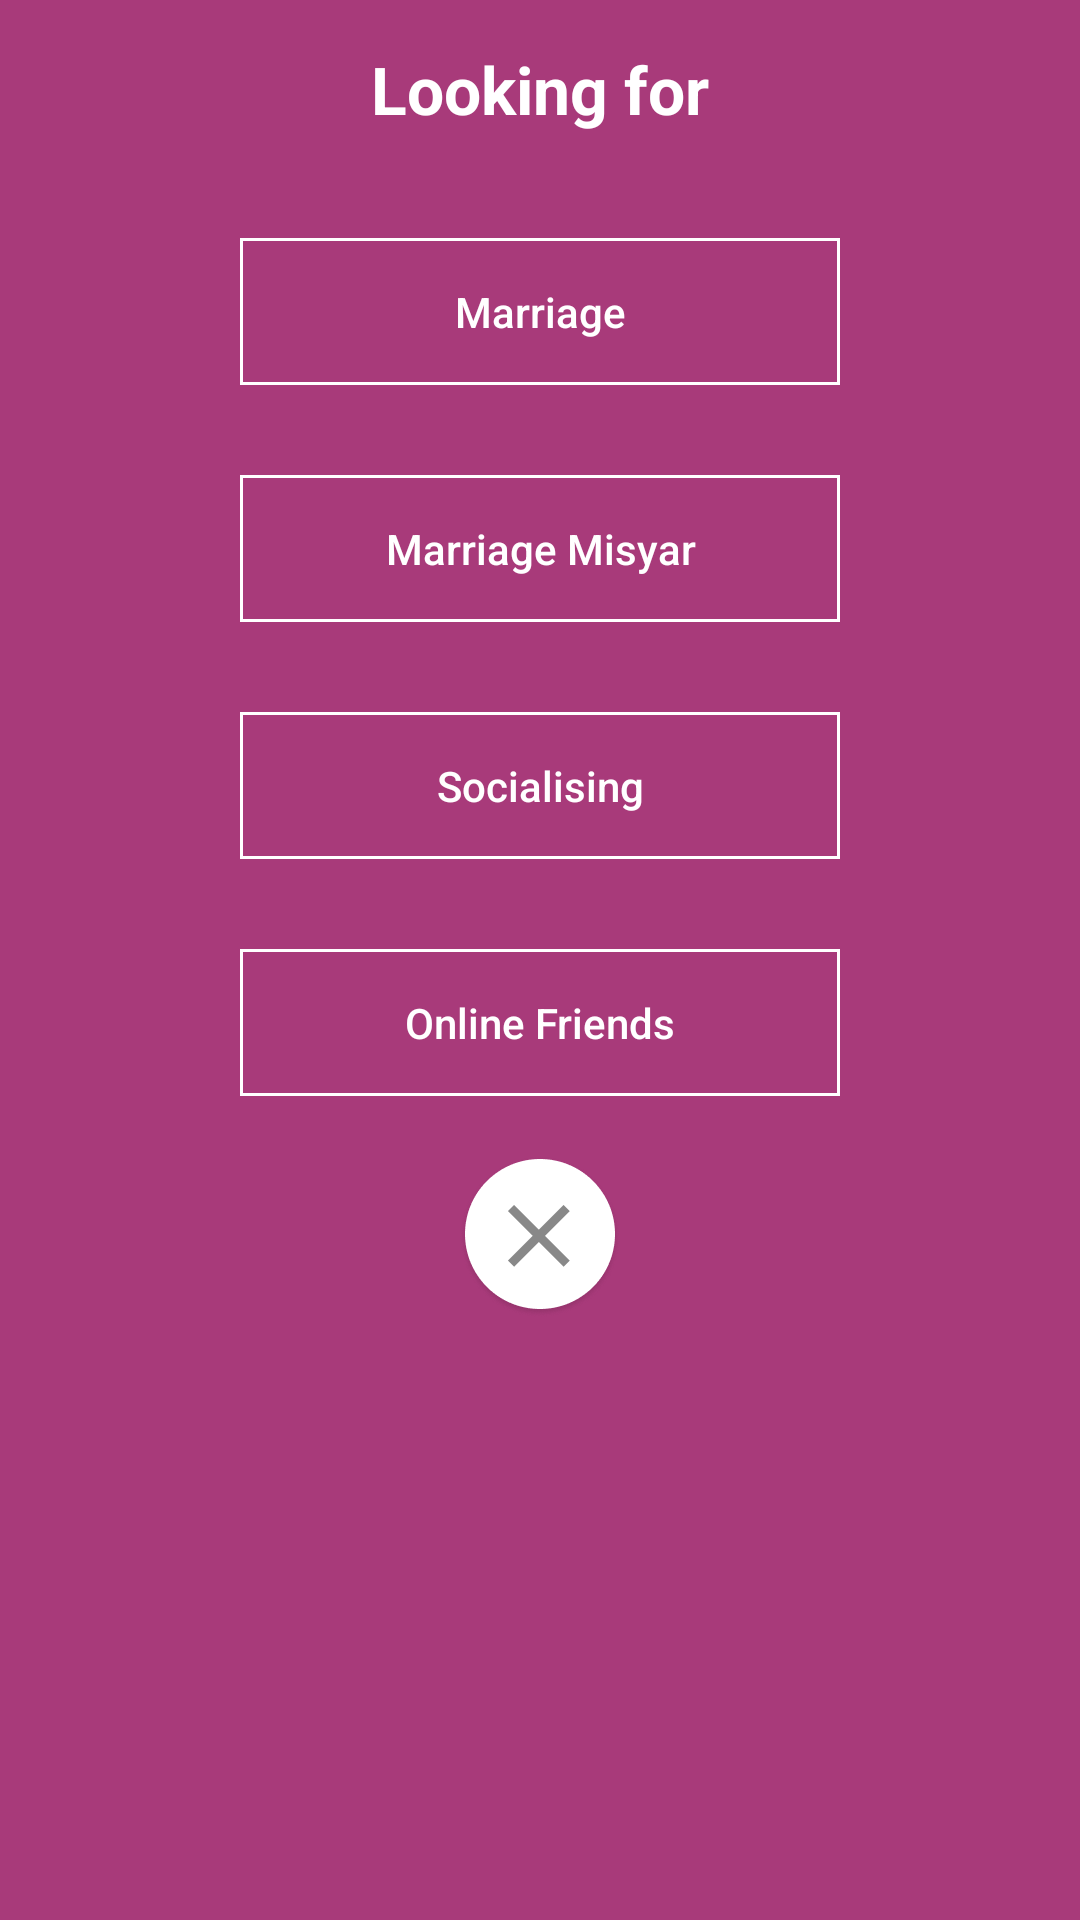

Icons on this 1080 × 1920 Android screen, each with its box as (x1, y1, x2, y2):
close: (465, 1159, 615, 1309)
